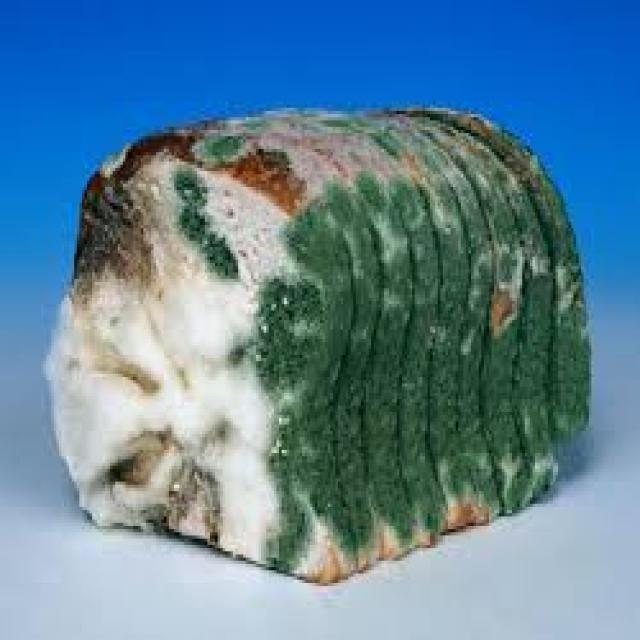food_waste: (46, 108, 589, 580)
